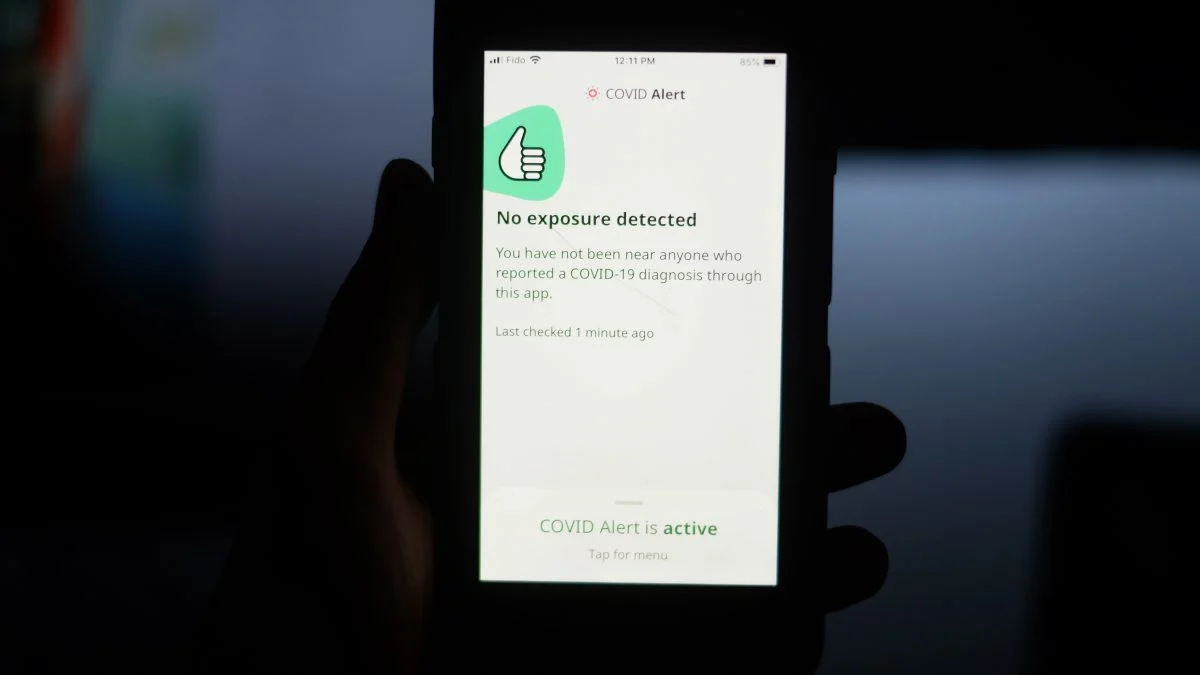Safe: (472, 100, 785, 242)
